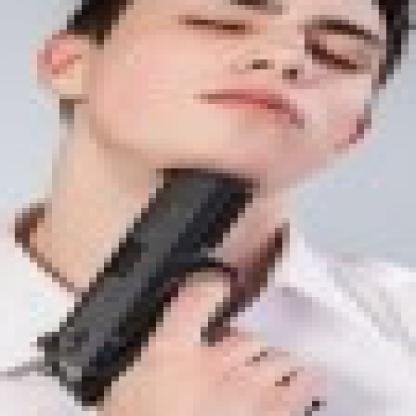gun: (30, 159, 342, 411)
